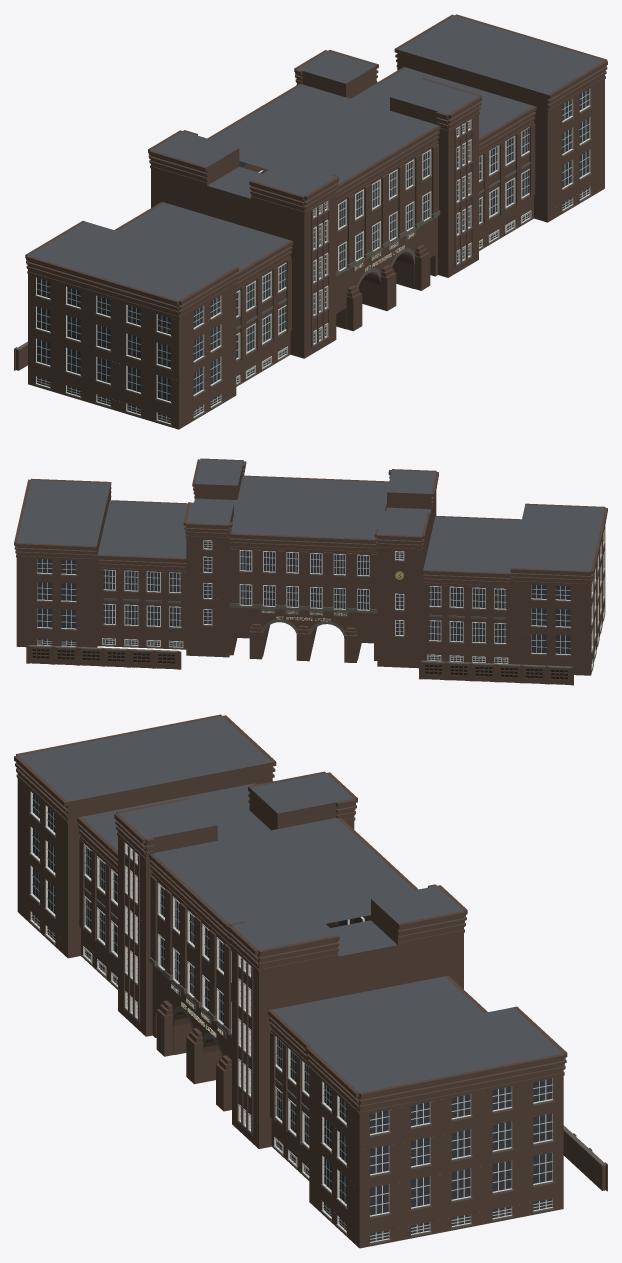
The model's file is amsterdams-lyceum.glb.
3 renders of one model, top to bottom at view 1: azimuth 30°, elevation 25°; view 2: azimuth 150°, elevation 25°; view 3: azimuth 270°, elevation 25°, orthographic. The views are drawn at different scales.
Visible parts, largest first — view 1: amsterdams-lyceum; view 2: amsterdams-lyceum; view 3: amsterdams-lyceum.
Boxes of the visible parts, left/top/right/bottom form: amsterdams-lyceum: left=14, top=14, right=607, bottom=429; amsterdams-lyceum: left=14, top=458, right=607, bottom=685; amsterdams-lyceum: left=14, top=714, right=607, bottom=1248.
Size of the model in its own units: 78.95 by 19.29 by 52.27.
